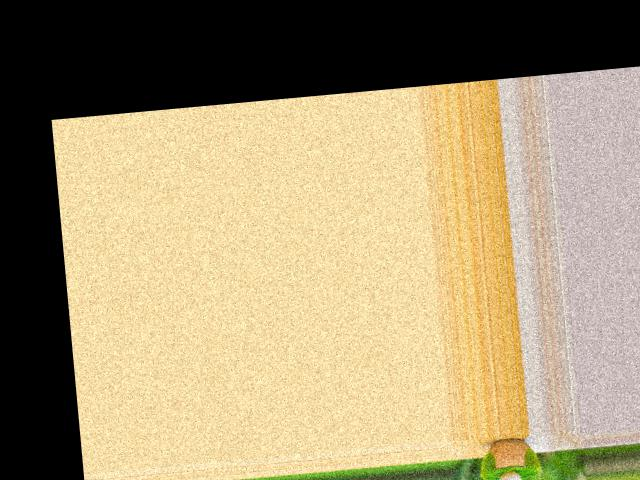egg: (497, 469, 525, 480)
